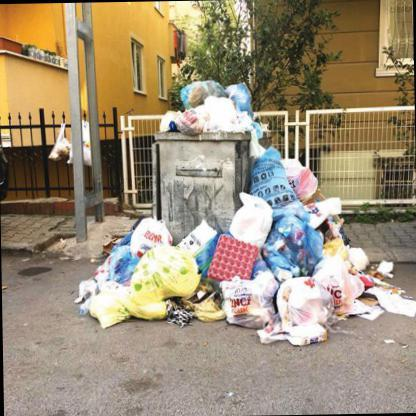Garbage: (148, 74, 278, 138), (184, 218, 235, 332), (248, 146, 318, 228), (88, 245, 146, 334), (280, 270, 342, 344), (128, 245, 199, 294), (224, 278, 276, 342), (320, 247, 377, 305), (252, 142, 295, 209), (364, 254, 410, 297), (236, 193, 270, 250), (224, 77, 269, 114), (196, 100, 244, 129), (180, 78, 226, 102), (160, 111, 198, 130)
